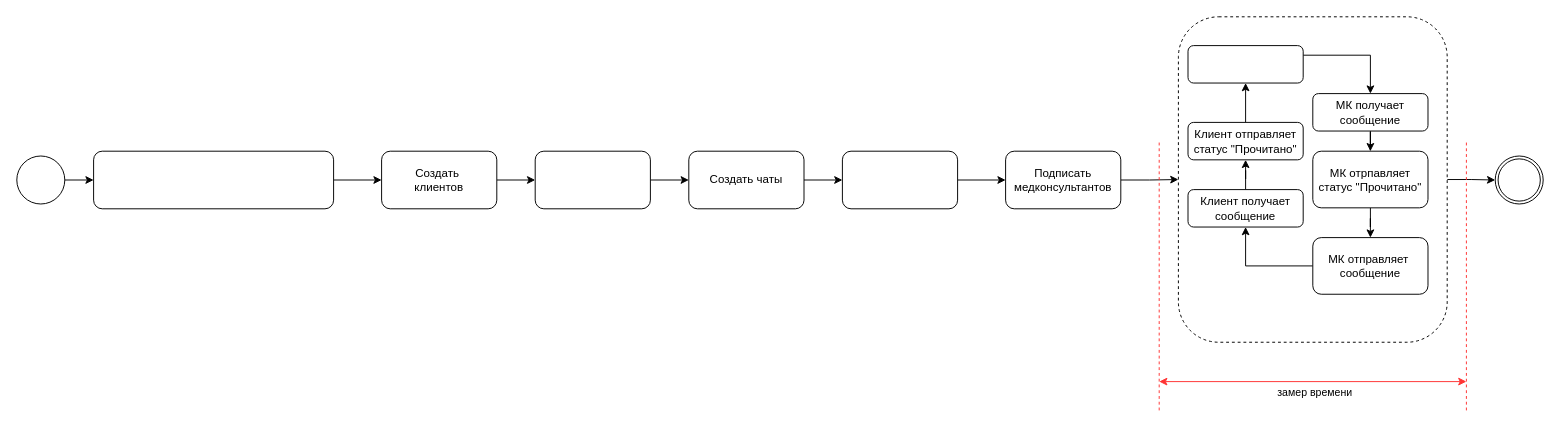
Image size: 1560x428. Some labels were removed from this diagram. Each missing label, with the centre of its shape:
Входные данные: - кол-во чатов - кол-во циклов обмена сообщениями: (213,179)
Клиент отправляет сообщение: (1245,64)
Подписать клиентов: (899,179)
Создать медконсультантов: (592,179)
